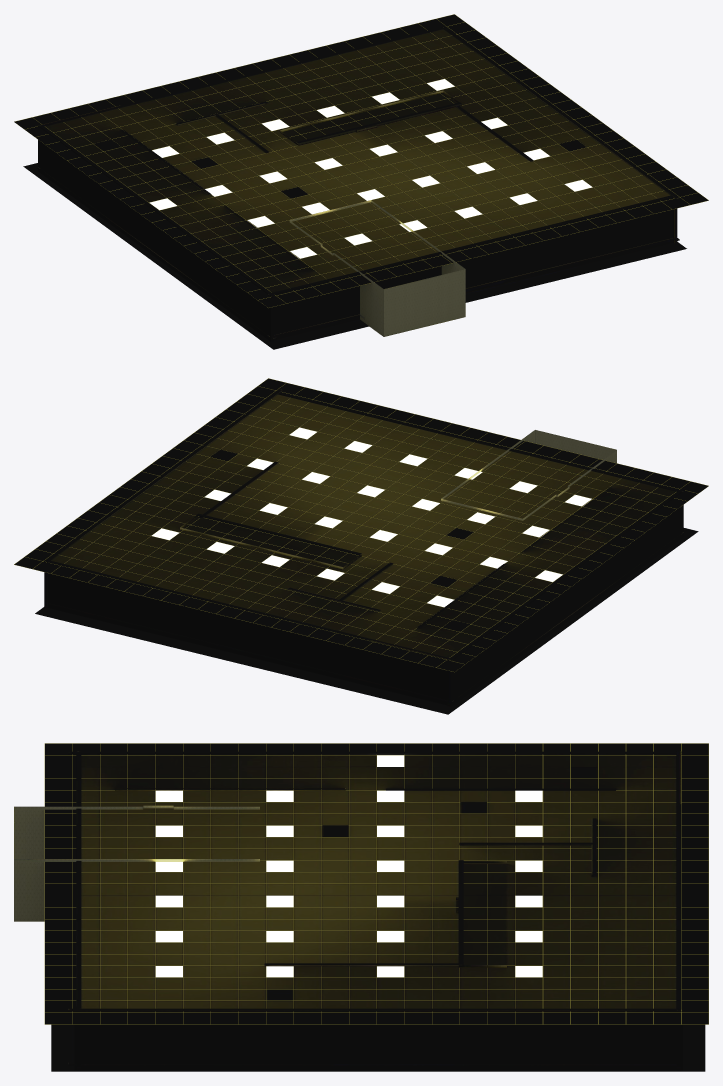
File: original_backrooms.glb
3 views of the same model, one above another, from view 1: azimuth 30°, elevation 25°; view 2: azimuth 150°, elevation 25°; view 3: azimuth 270°, elevation 25° (orthographic). The views are drawn at different scales.
Parts seen in each view (by area): view 1: Ceiling_6, BackWall_Double_BR.028_3, Air_Vent.005_5, Piece1_2, Carpet_v1.001_4; view 2: Ceiling_6, BackWall_Double_BR.028_3, Air_Vent.005_5, Carpet_v1.001_4, Piece1_2; view 3: Ceiling_6, BackWall_Double_BR.028_3, Air_Vent.005_5, Piece1_2, Carpet_v1.001_4.
Part boxes in pixels (<box>): Ceiling_6: <box>14,14,708,307</box>; BackWall_Double_BR.028_3: <box>37,26,679,341</box>; Air_Vent.005_5: <box>15,14,708,307</box>; Piece1_2: <box>289,200,465,336</box>; Carpet_v1.001_4: <box>23,163,686,349</box>; Ceiling_6: <box>14,378,708,671</box>; BackWall_Double_BR.028_3: <box>44,389,686,706</box>; Air_Vent.005_5: <box>14,378,708,672</box>; Carpet_v1.001_4: <box>35,528,698,714</box>; Piece1_2: <box>441,430,616,520</box>; Ceiling_6: <box>45,743,708,1024</box>; BackWall_Double_BR.028_3: <box>68,751,682,1070</box>; Air_Vent.005_5: <box>44,743,708,1024</box>; Piece1_2: <box>14,805,259,921</box>; Carpet_v1.001_4: <box>51,1024,705,1071</box>.
Size of the model in its own units: 27.36 by 2.87 by 28.62.
Materials: 11 (9 with a texture image).
